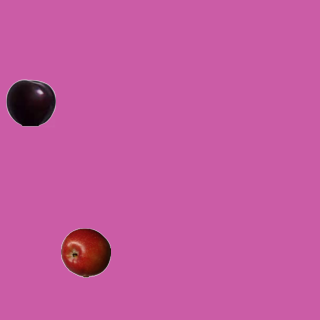Apple Braeburn: (60, 227, 110, 277)
Cherry Wax Black: (5, 77, 55, 127)
